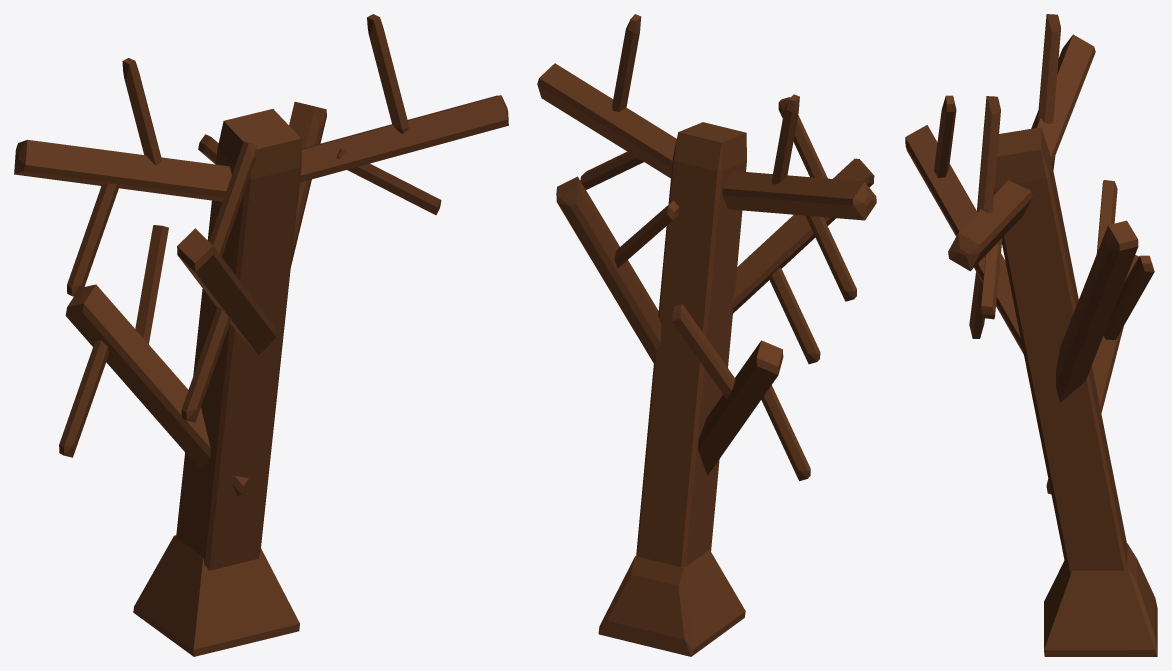
File: куст.fbx
3 renders of one model, left to right at view 1: azimuth 30°, elevation 25°; view 2: azimuth 150°, elevation 25°; view 3: azimuth 270°, elevation 25°, orthographic. The views are drawn at different scales.
Visible parts, largest first — view 1: куст; view 2: куст; view 3: куст.
Part boxes in pixels (left/top/right/bottom): куст: left=14, top=14, right=508, bottom=656; куст: left=537, top=14, right=876, bottom=656; куст: left=905, top=14, right=1157, bottom=656.
Size of the model in its own units: 157 by 218 by 85.73.
